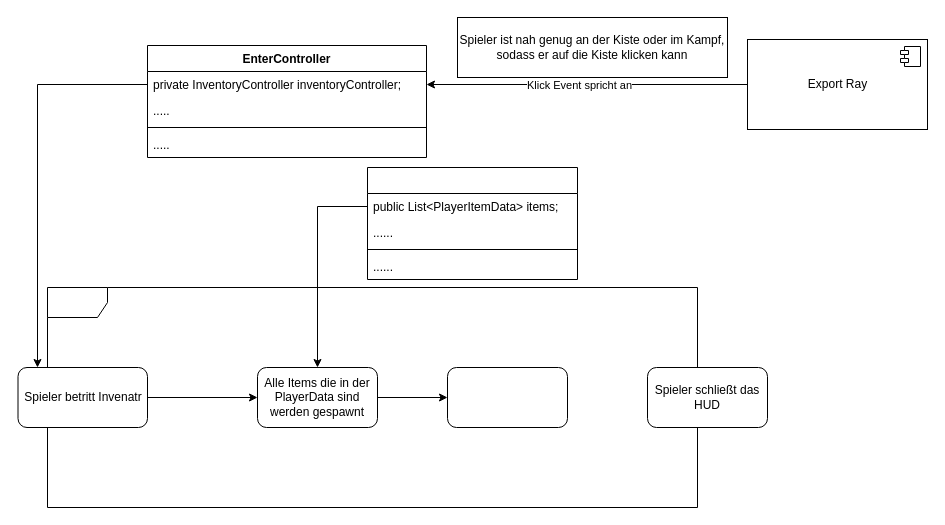
This 945x525 diagram has some shape labels left out. Here are the shapes that lost their labels. From the top down, the box of each, then its label:
(366, 166, 578, 280): PlayerData
(46, 286, 698, 508): Inventar
(446, 366, 568, 428): Spieler kann Item auswählen oder nur anschauen
